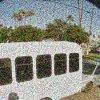buses: (0, 39, 83, 100)
